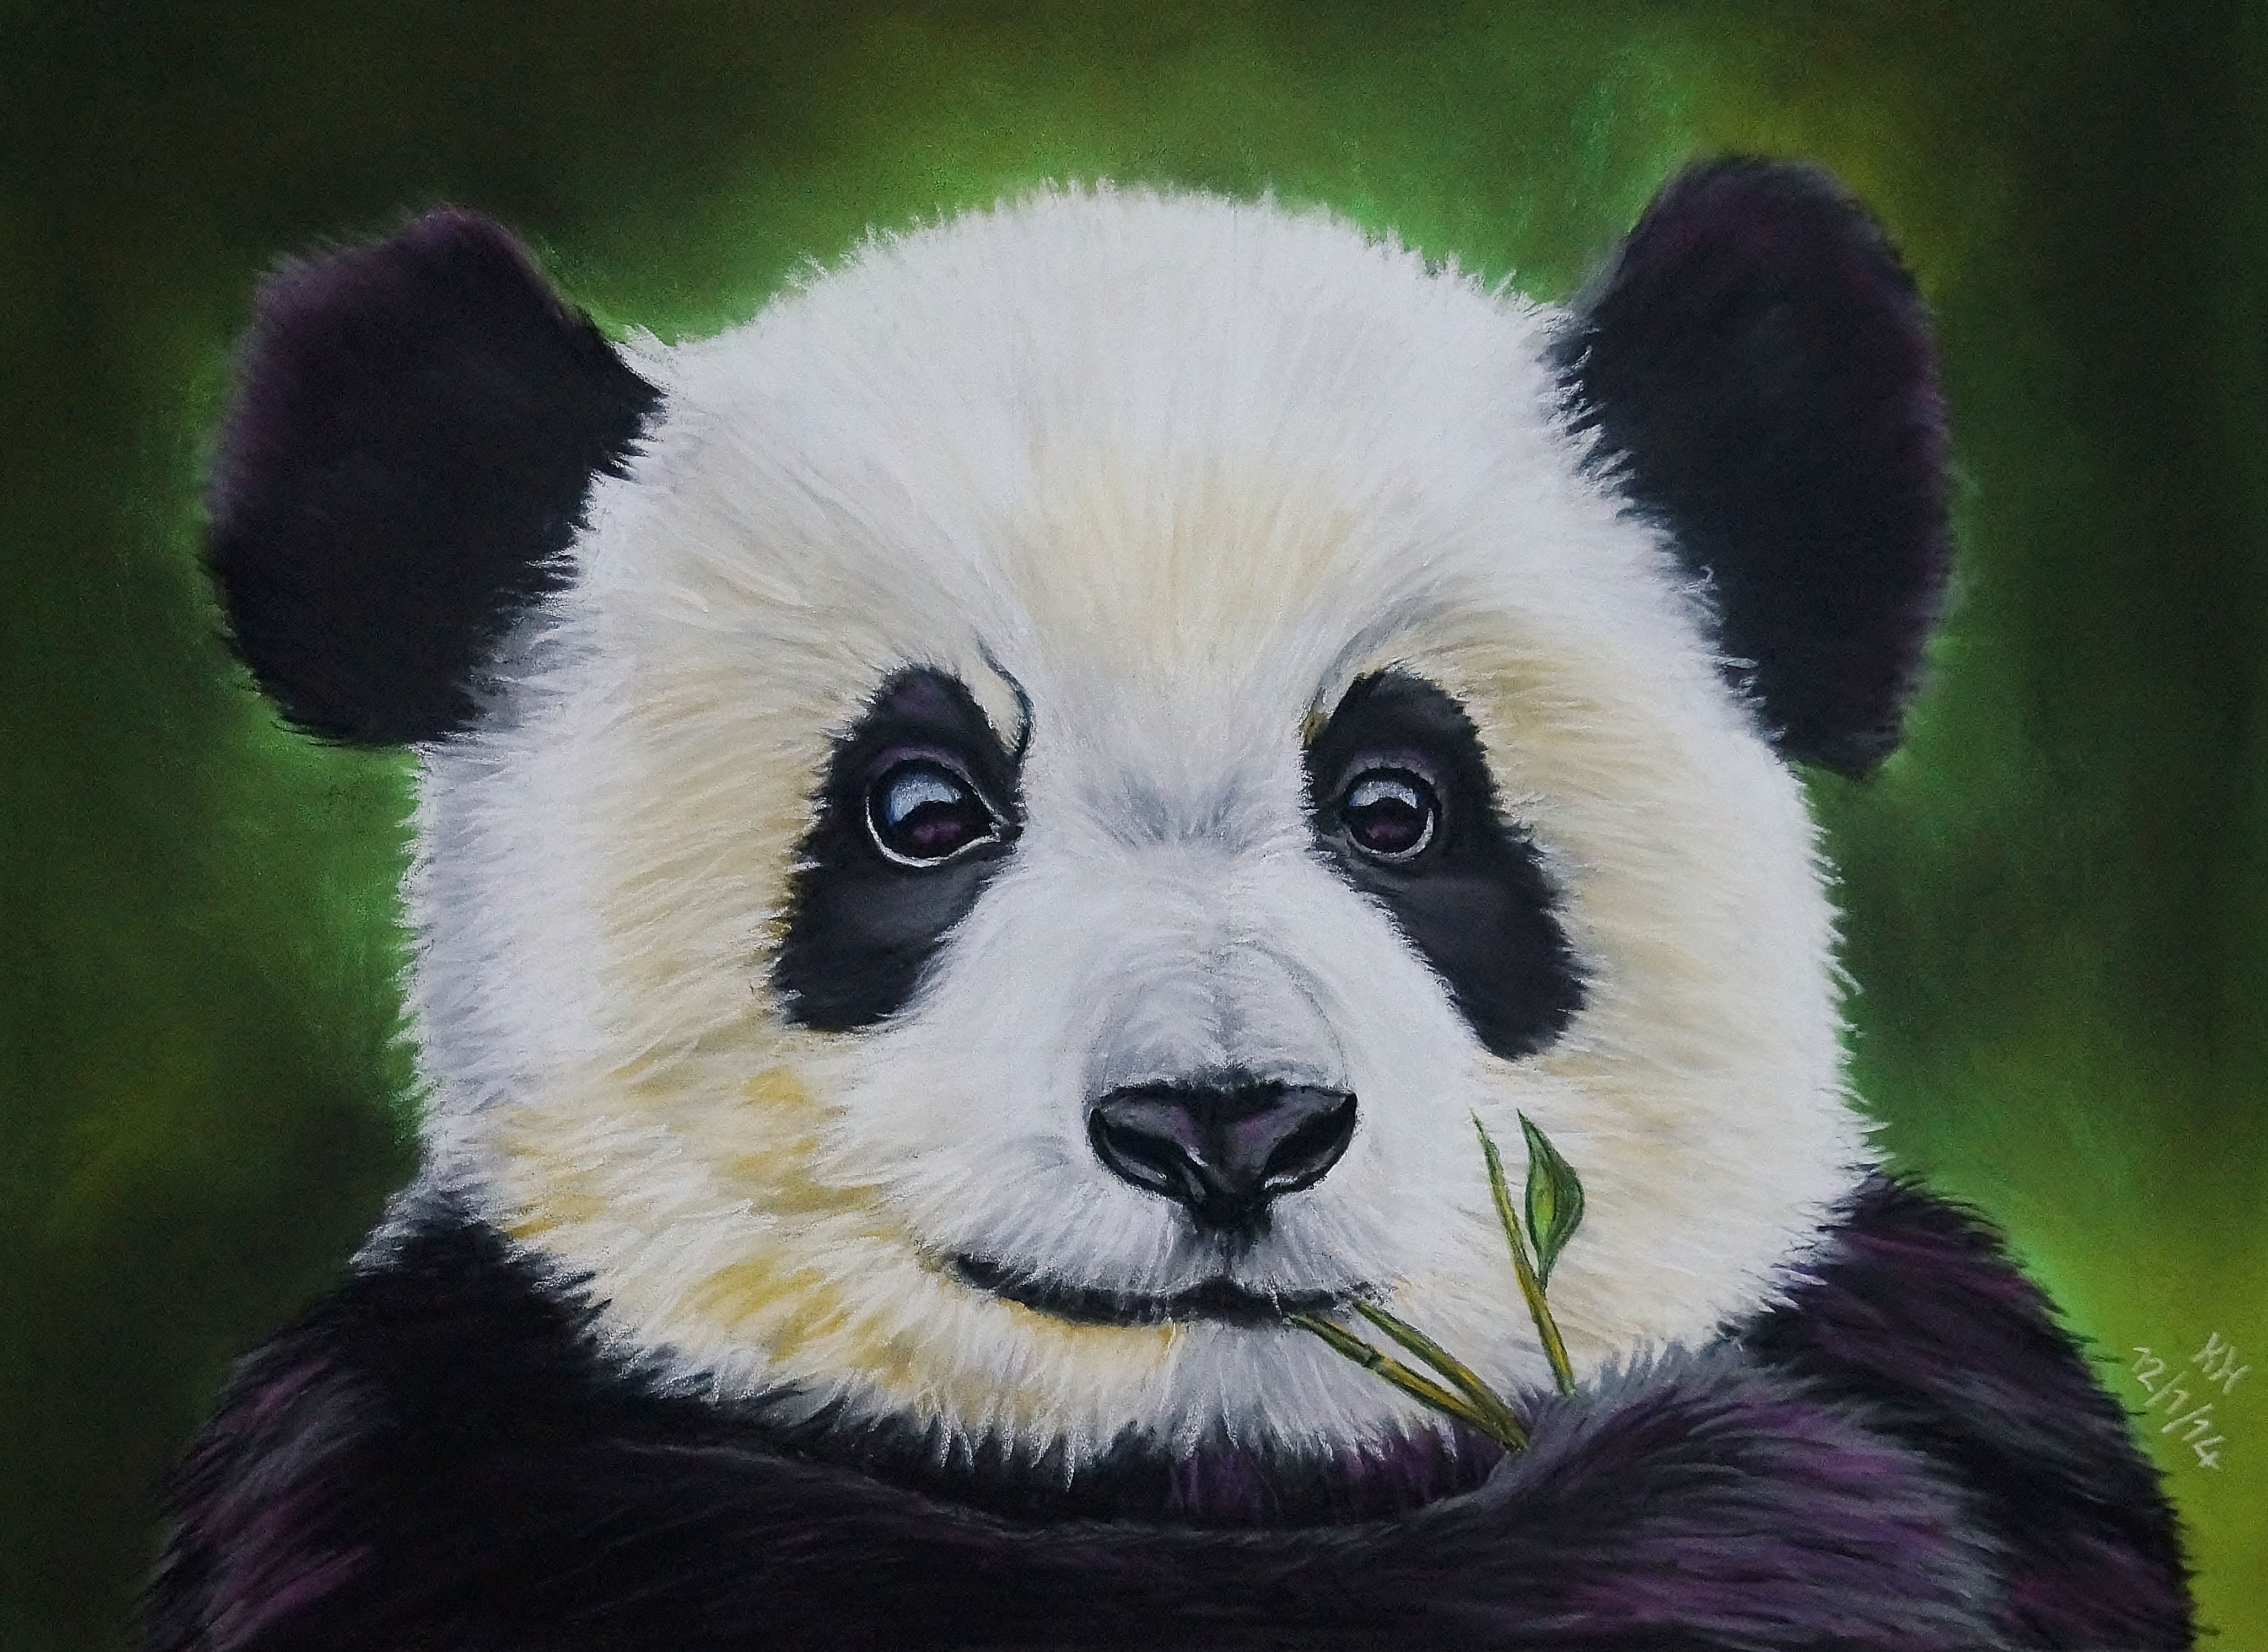panda: (150, 150, 2196, 1634)
